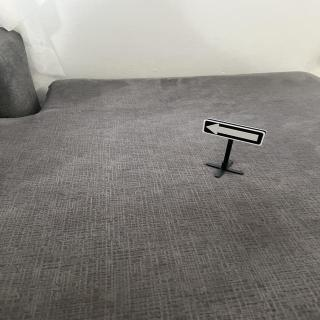sign_oneway_left: (201, 117, 268, 149)
